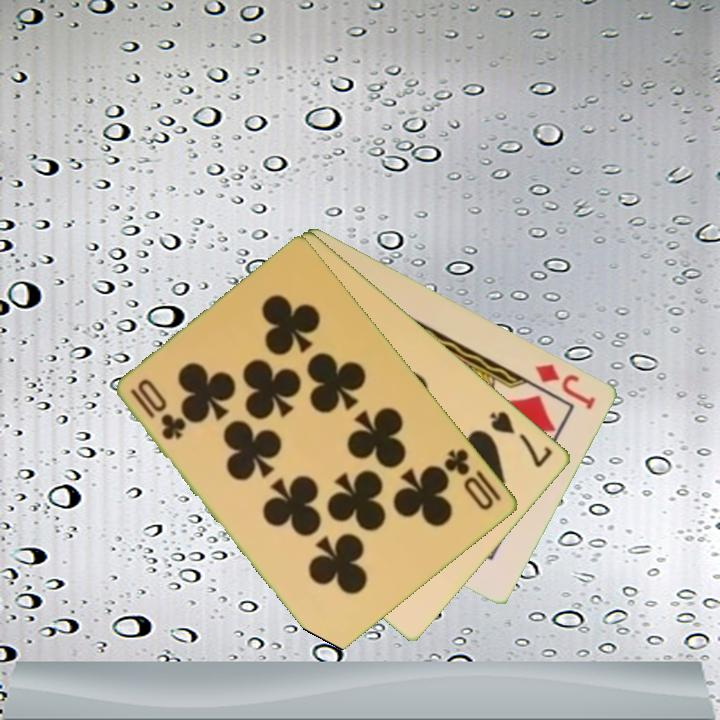10c: (441, 445, 505, 514), (127, 375, 189, 443)
7s: (486, 407, 556, 471)
Jd: (532, 359, 599, 413)
